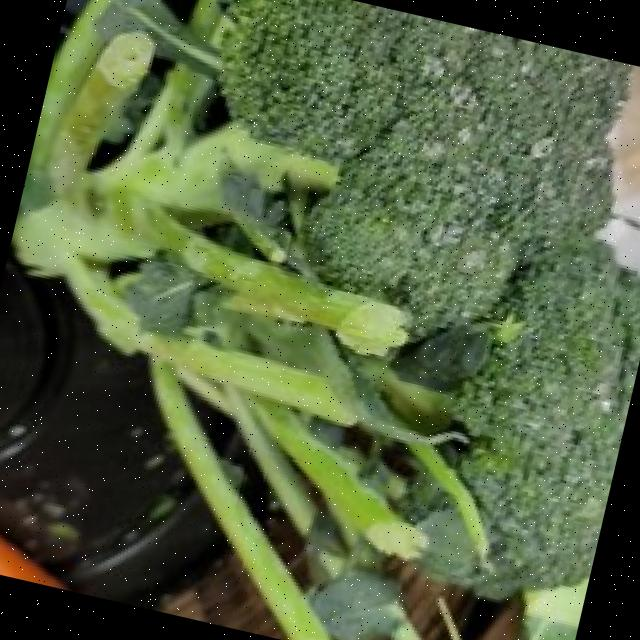Broccoli: (221, 0, 628, 333), (223, 0, 628, 334), (455, 241, 640, 593), (455, 241, 640, 590)
